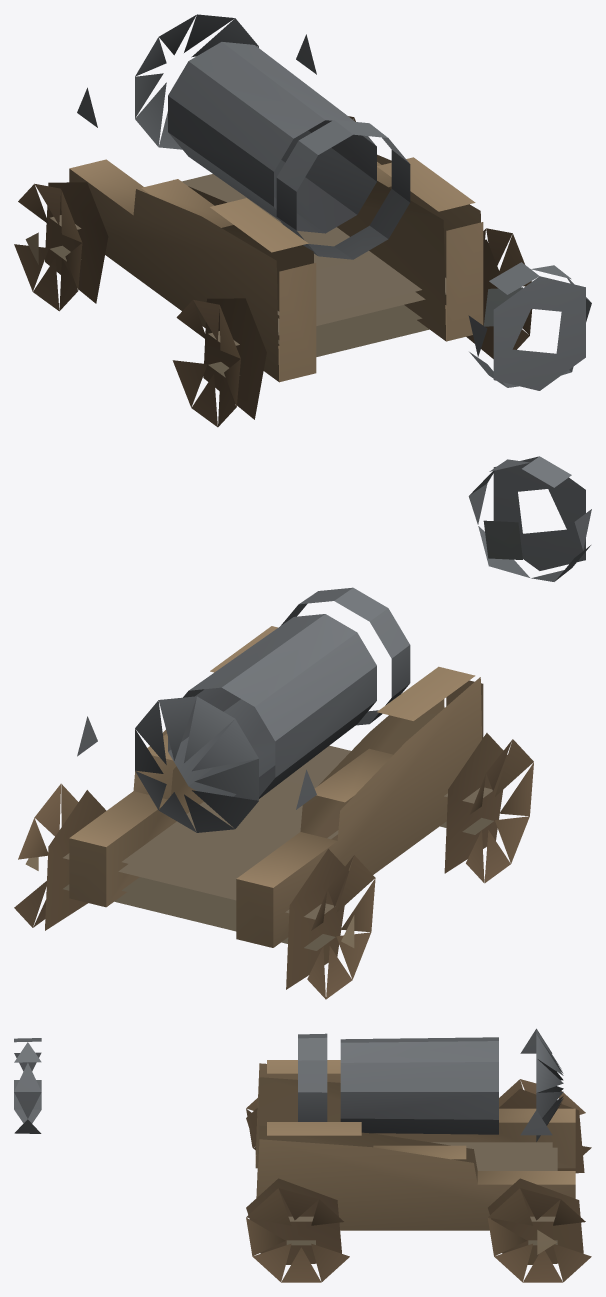
File: cannon.lod.glb
3 renders of one model, top to bottom at view 1: azimuth 30°, elevation 25°; view 2: azimuth 150°, elevation 25°; view 3: azimuth 270°, elevation 25°, orthographic. The views are drawn at different scales.
Visible parts, largest first — view 1: cannon; view 2: cannon; view 3: cannon.
Boxes of the visible parts, x1,y1,x2,y2 form: cannon: (14, 14, 591, 427); cannon: (14, 456, 591, 999); cannon: (14, 1028, 591, 1282).
Size of the model in its own units: 1.11 by 0.8528 by 2.3.
